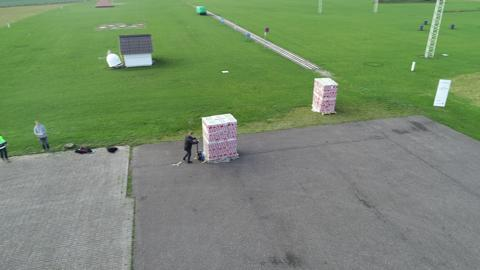RockwoolPallet: (202, 115, 239, 161)
